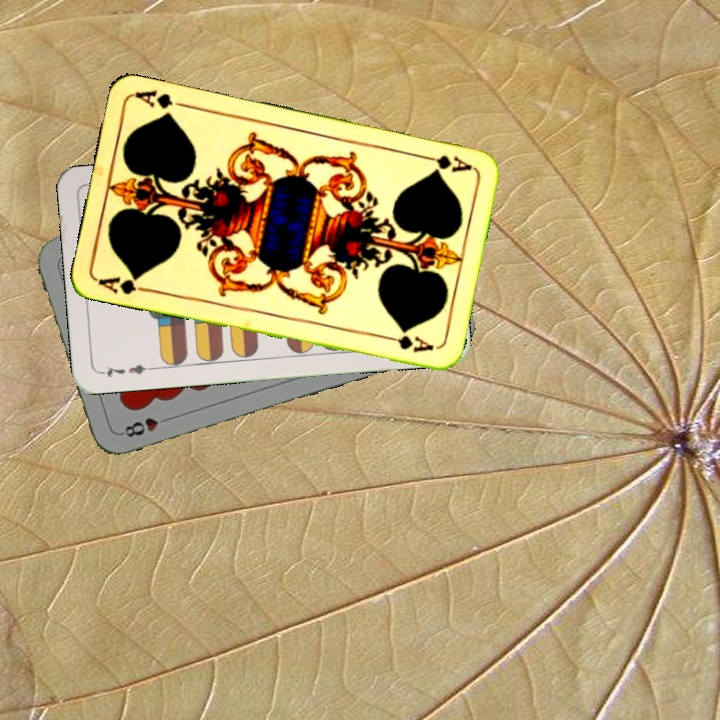E7: (97, 360, 156, 380)
GA: (94, 271, 153, 297), (416, 151, 475, 175)
H8: (116, 412, 174, 440)
